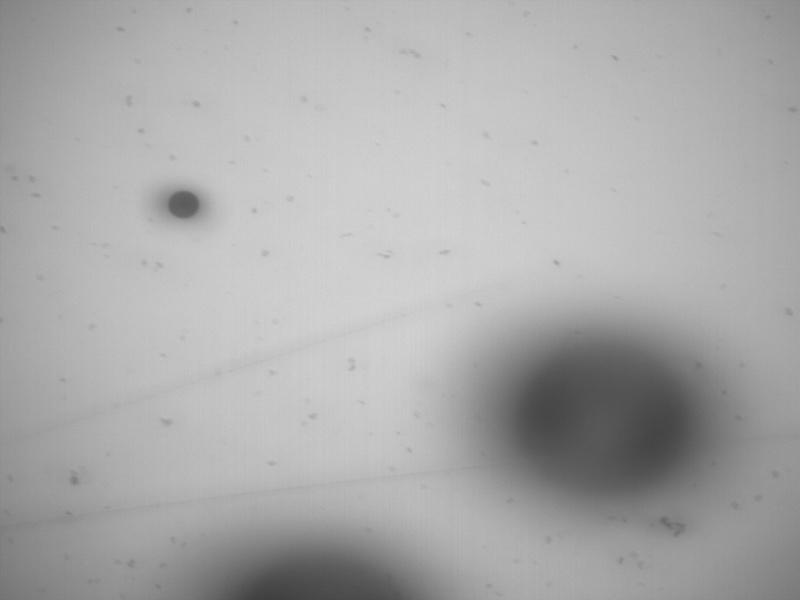bead: (515, 340, 699, 495), (216, 550, 407, 599), (167, 190, 201, 219)
